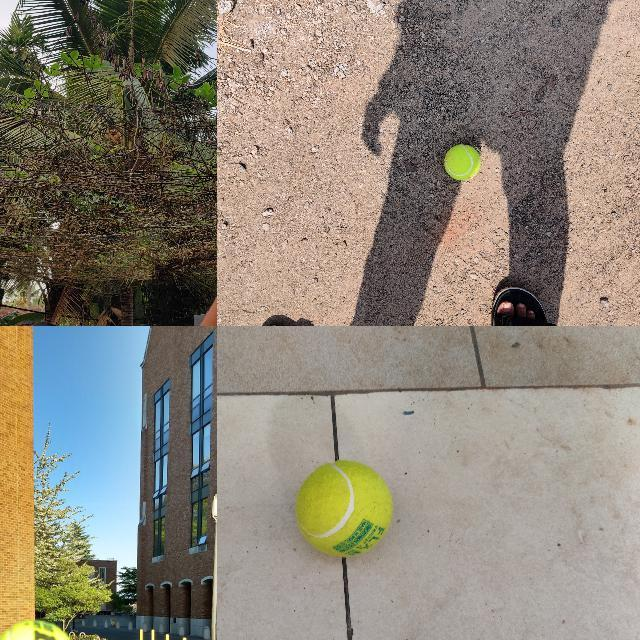tennis-ball: (295, 460, 393, 557), (0, 618, 79, 639), (444, 145, 481, 180)
